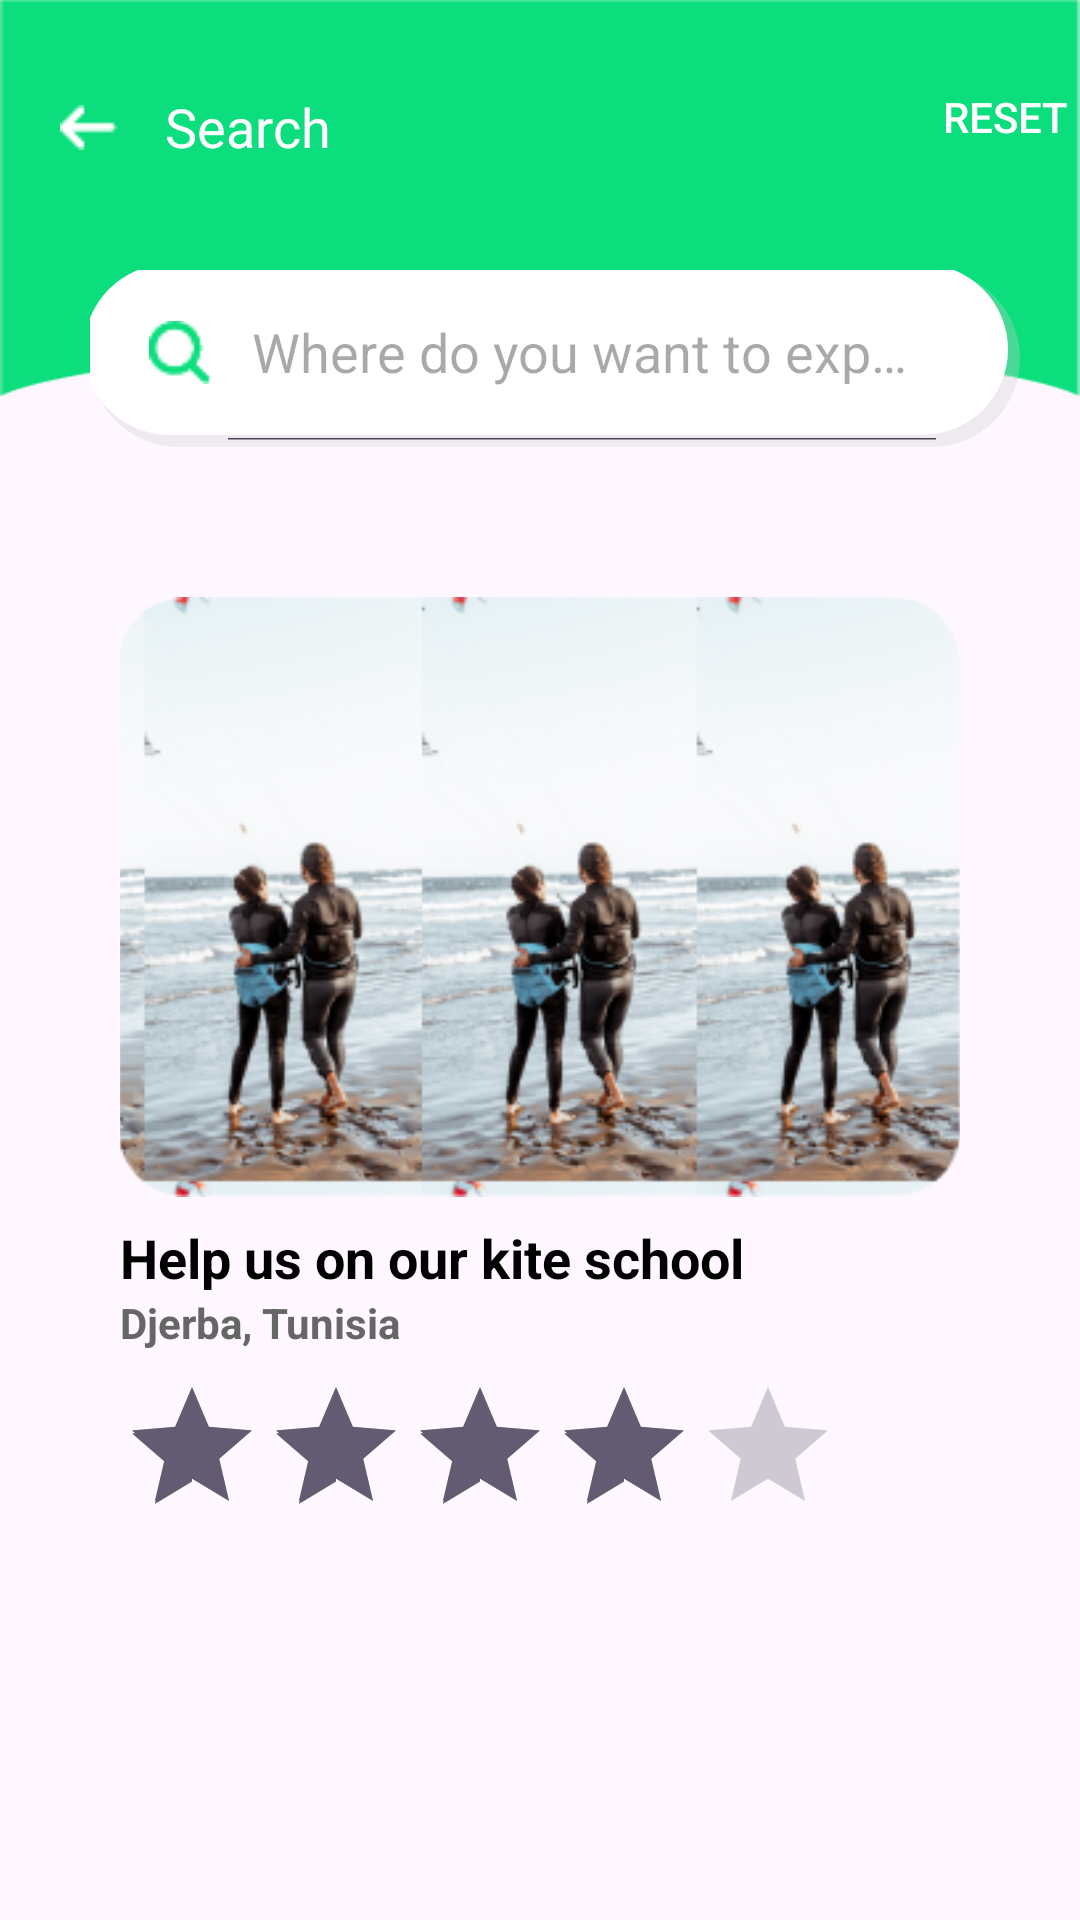

Where icons sit on this 1080 x 1920 app screen, as (x1, y1, x2, y2):
back arrow: (60, 105, 117, 150)
